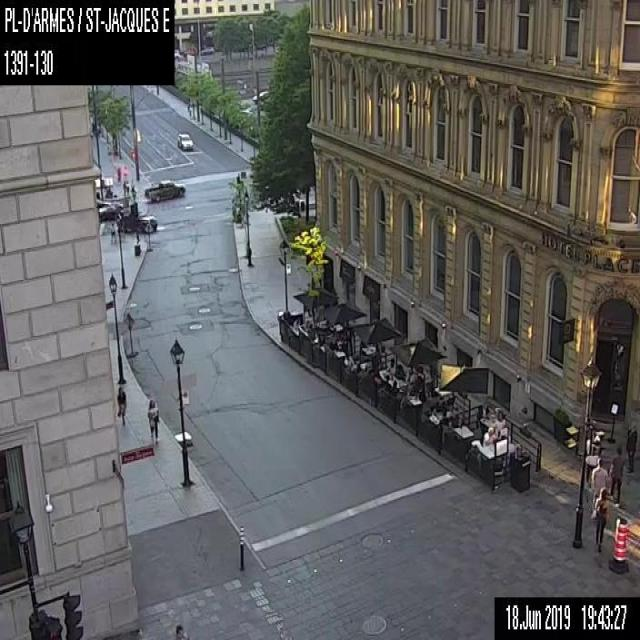construction: (609, 516, 629, 572)
pedestrian: (590, 486, 609, 552), (608, 443, 627, 505), (590, 456, 608, 499), (625, 418, 639, 473), (146, 397, 159, 443), (115, 386, 127, 426), (173, 622, 189, 638), (110, 222, 116, 244)
vehicle: (144, 178, 185, 203), (117, 212, 157, 234), (175, 132, 193, 150)
